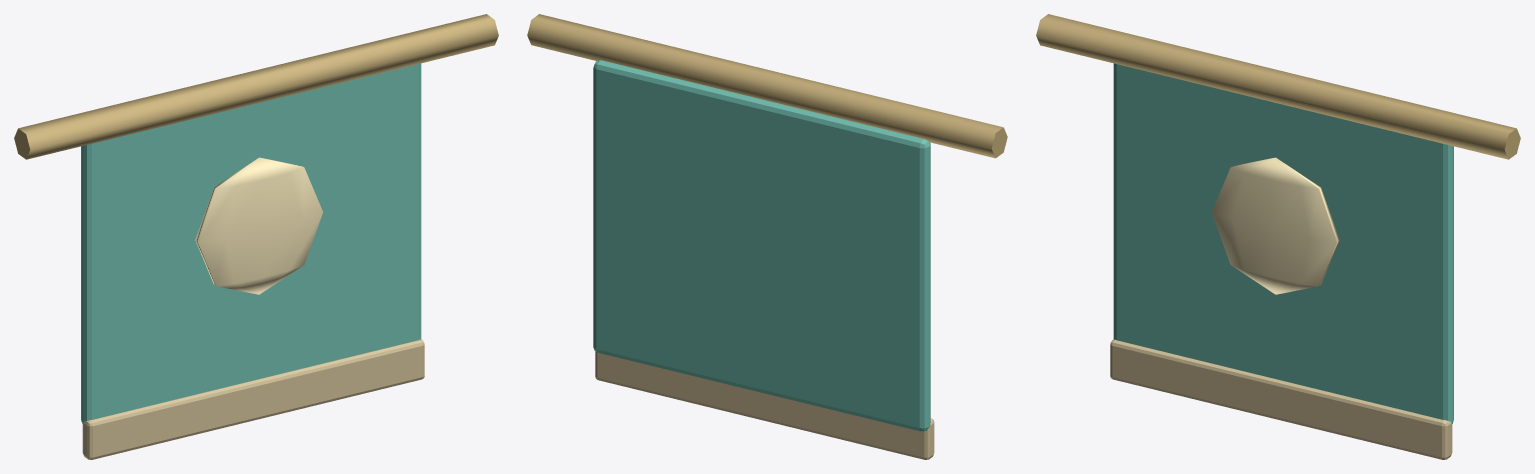
File: banner.glb
3 renders of one model, left to right at view 1: azimuth 30°, elevation 25°; view 2: azimuth 150°, elevation 25°; view 3: azimuth 330°, elevation 25°, orthographic.
Parts seen in each view (by area): view 1: banner_Palette, banner_Glow; view 2: banner_Palette; view 3: banner_Palette, banner_Glow.
Part boxes in pixels (x1=…): banner_Palette: x1=14, y1=14, x2=498, y2=459; banner_Glow: x1=195, y1=157, x2=322, y2=294; banner_Palette: x1=527, y1=14, x2=1007, y2=459; banner_Palette: x1=1036, y1=14, x2=1520, y2=459; banner_Glow: x1=1212, y1=157, x2=1339, y2=294.
Size of the model in its own units: 0.5 by 0.353 by 0.0325.
